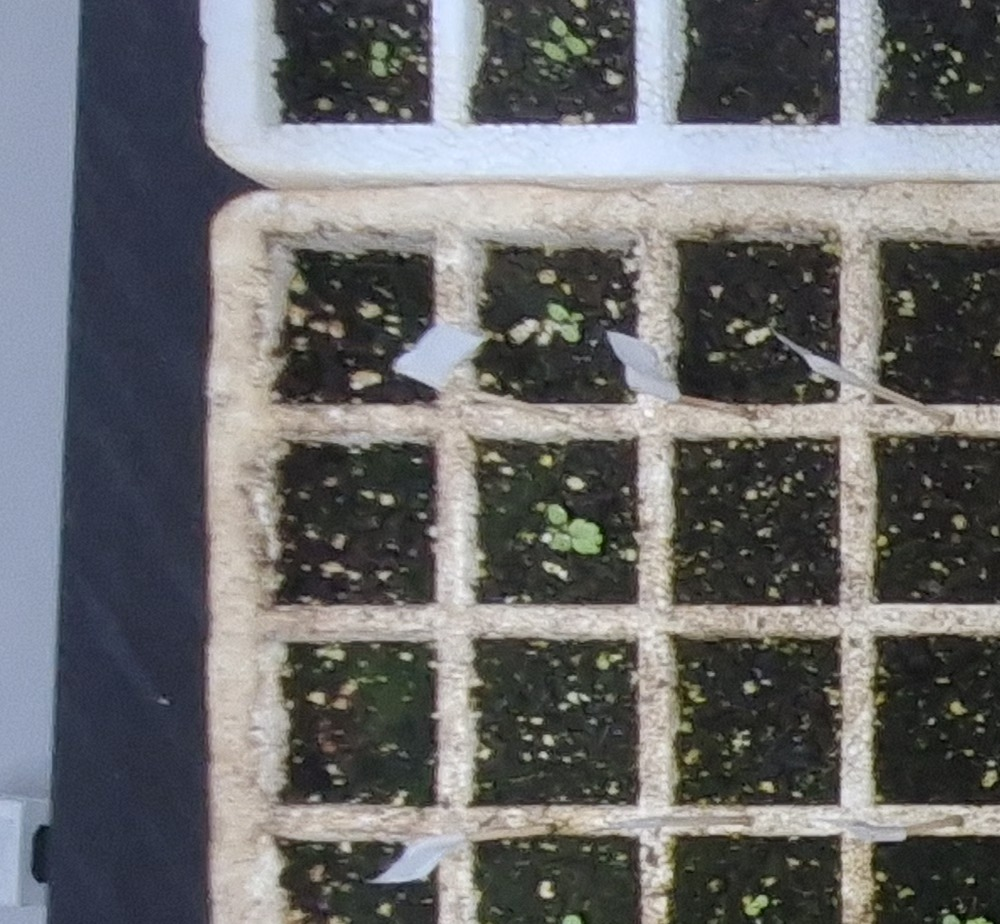Folha: (567, 519, 604, 553), (550, 532, 571, 552), (547, 504, 567, 525), (548, 305, 569, 321), (562, 325, 581, 340), (942, 914, 961, 924), (755, 895, 769, 908), (562, 916, 583, 924), (572, 312, 585, 321), (745, 907, 759, 915), (741, 896, 753, 905)
Germinacao: (547, 505, 603, 554), (547, 303, 584, 342), (743, 895, 768, 915), (943, 916, 999, 924), (555, 915, 596, 924)
